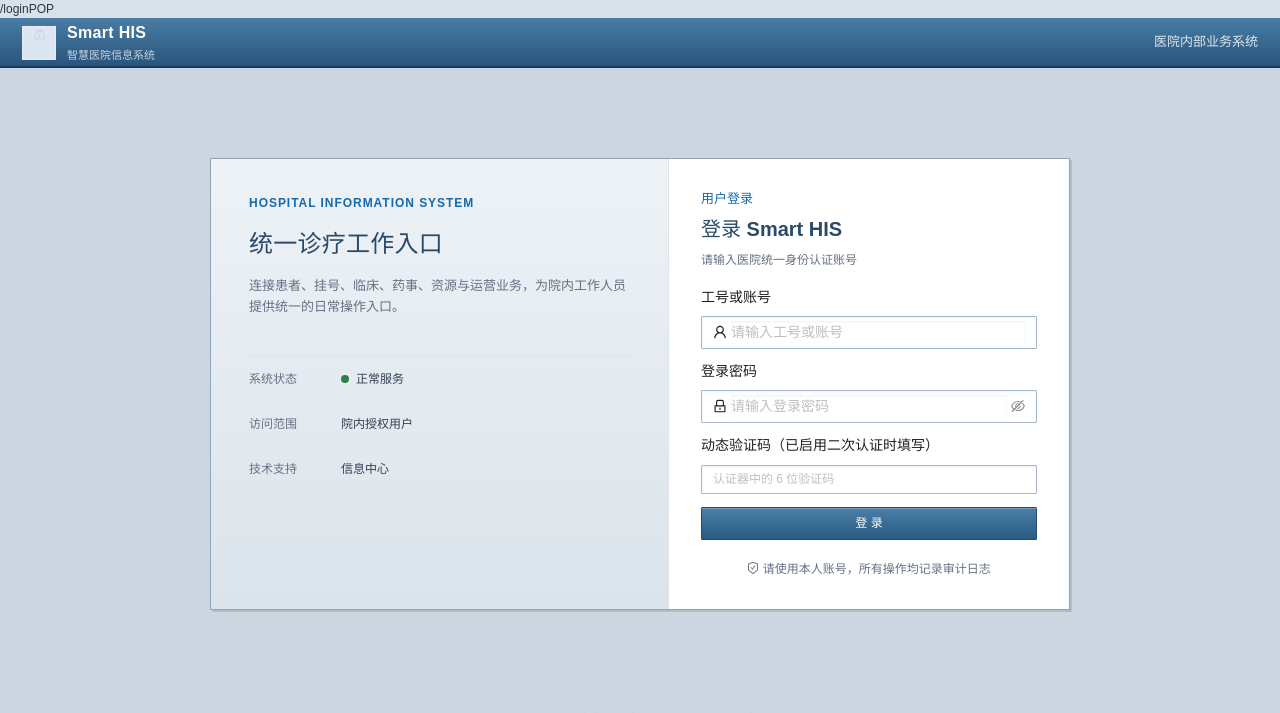
Scenario: LoginPage › logs in without optional OTP and replaces the login route
Step 1. Type "doctor" into the field labelled "工号或账号" → (878, 332), box [731,321,1025,344]
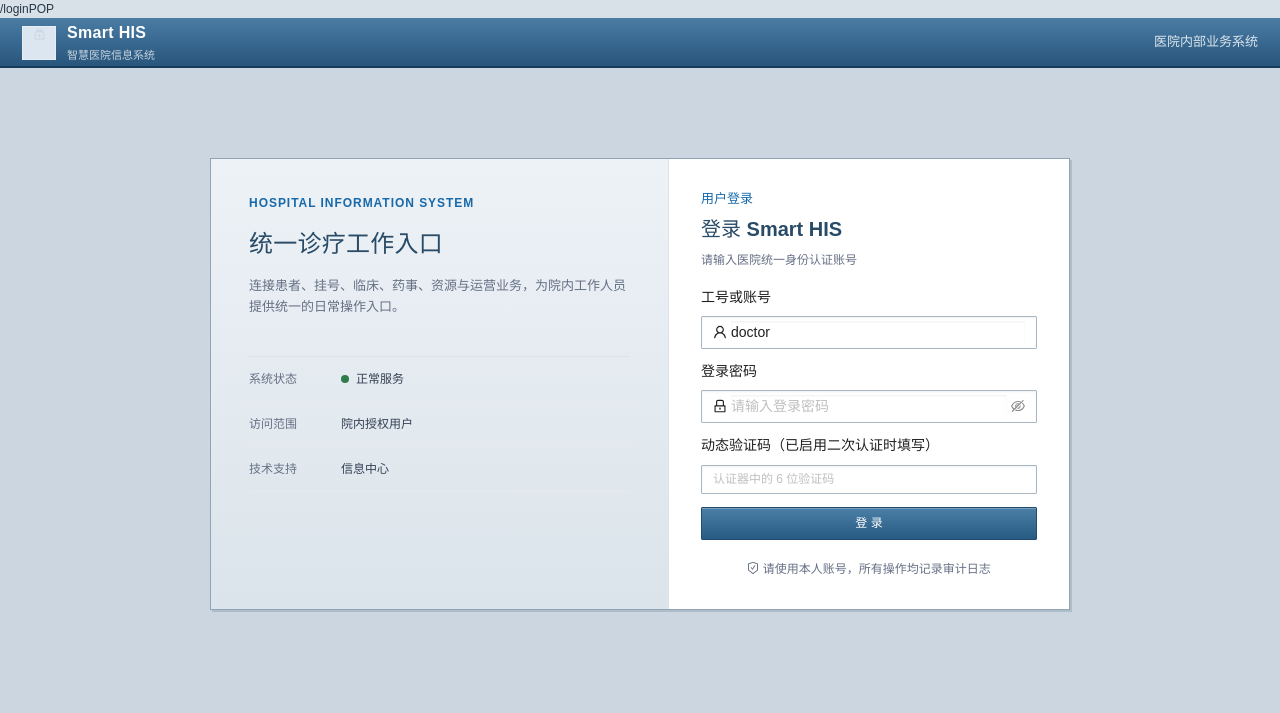
Step 2. Type "test-password" into the password field labelled "登录密码" → (869, 406), box [731,395,1007,418]
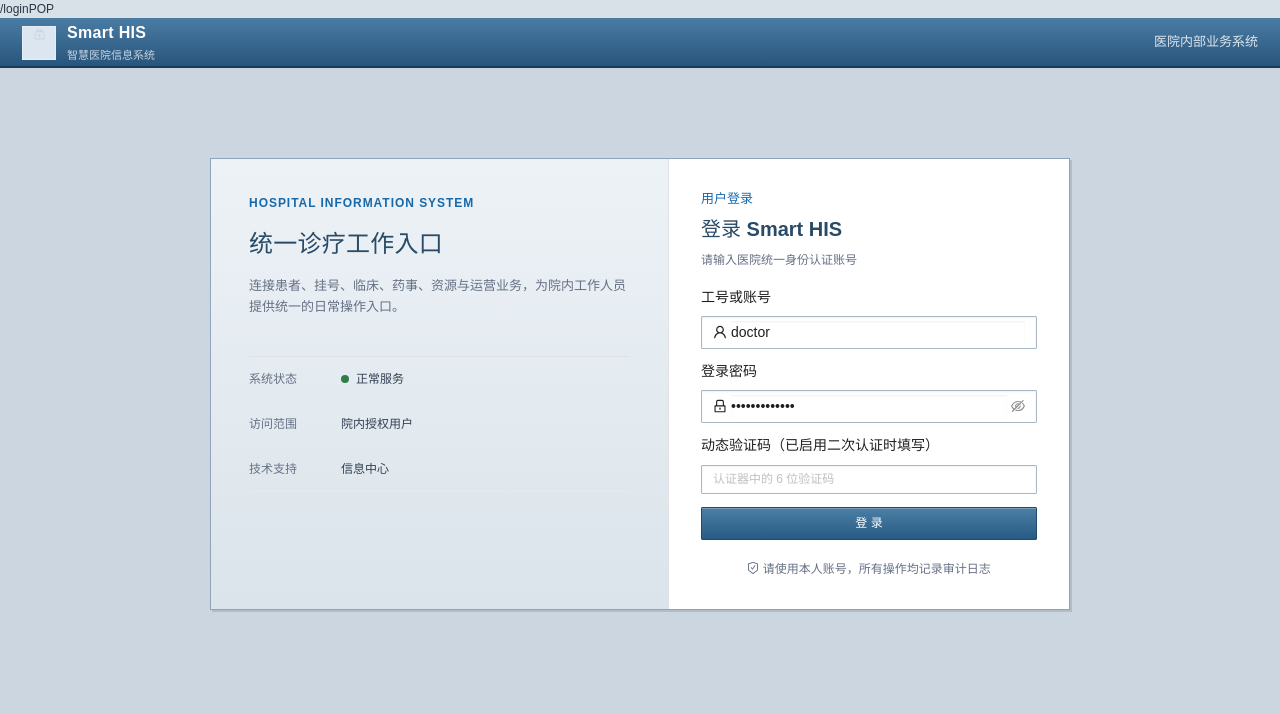
Step 3. Click the button "登 录" → (869, 523), box [701,507,1037,540]
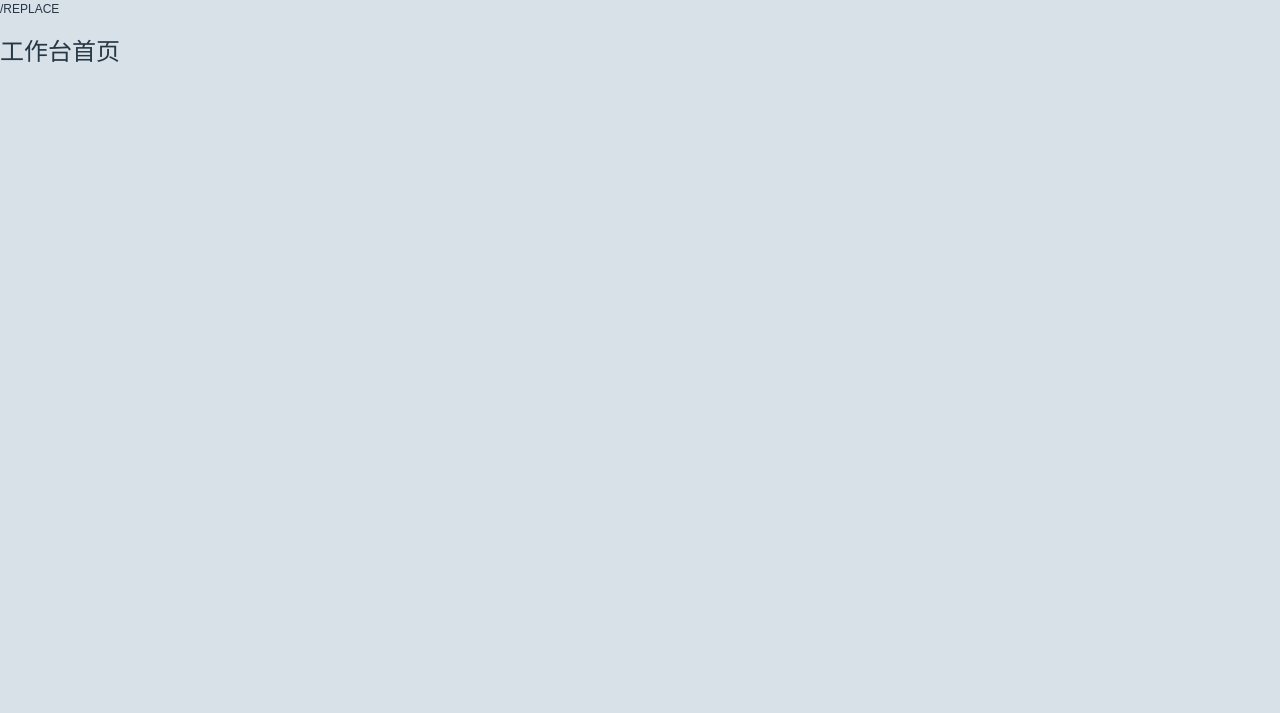
Expected: the text named "当前路径" reads "/", [0,2,3,16]
Expected: the heading "工作台首页" is shown, [0,38,120,65]
Expected: the text named "导航方式" reads "REPLACE", [3,2,59,16]
